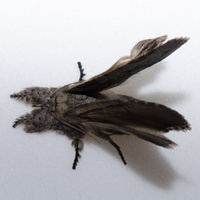insect: (10, 35, 190, 164)
